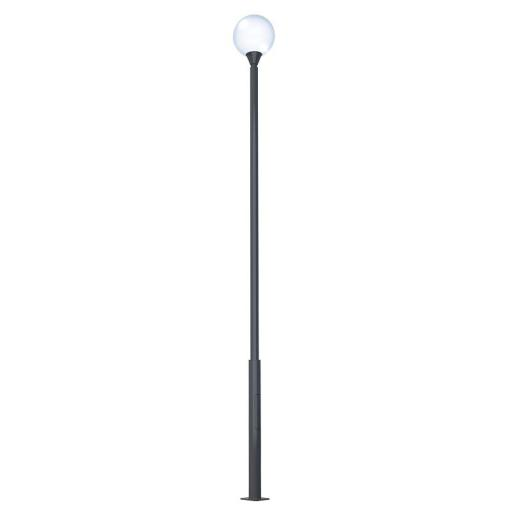Light-pole: (221, 6, 283, 504)
